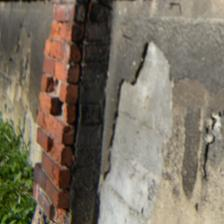Crack: (0, 65, 135, 169), (0, 32, 98, 78), (119, 44, 142, 78)
